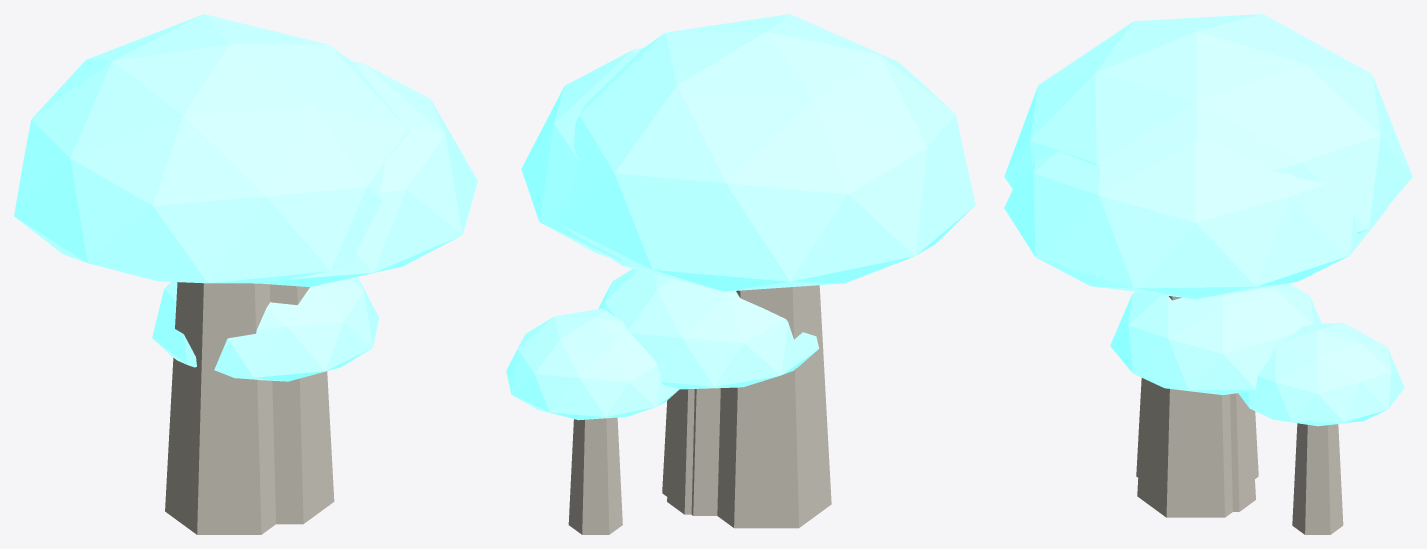
The model's file is GlowShroom_Teal.glb.
The picture shows the model from 3 angles, left to right: view 1: azimuth 30°, elevation 25°; view 2: azimuth 150°, elevation 25°; view 3: azimuth 270°, elevation 25°; orthographic projection. The views are drawn at different scales.
Visible parts, largest first — view 1: GlowShroom_Teal; view 2: GlowShroom_Teal; view 3: GlowShroom_Teal.
Part boxes in pixels (<box>): GlowShroom_Teal: <box>14,14,477,534</box>; GlowShroom_Teal: <box>506,14,975,534</box>; GlowShroom_Teal: <box>1004,14,1412,534</box>.
Bounding box in the file's own units: 0.4244 × 0.4778 × 0.3975.
